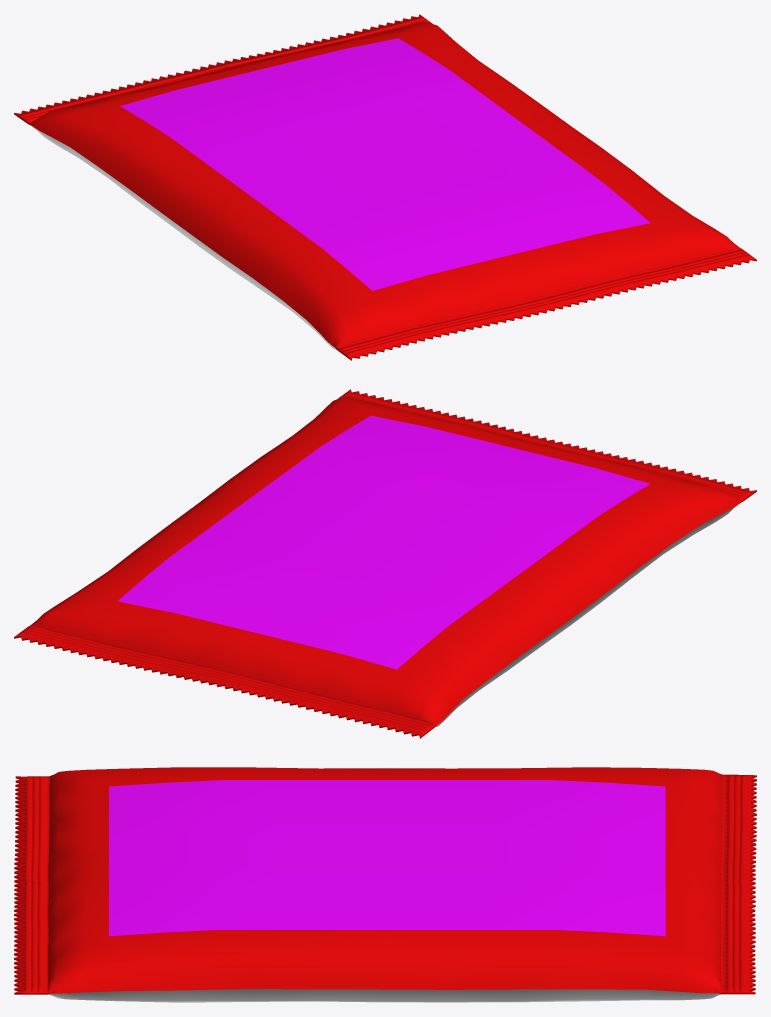
File: packshot_1.gltf
3 renders of one model, top to bottom at view 1: azimuth 30°, elevation 25°; view 2: azimuth 150°, elevation 25°; view 3: azimuth 270°, elevation 25°, orthographic. The views are drawn at different scales.
Visible parts, largest first — view 1: sticker, pack-pack, pack-backside; view 2: sticker, pack-pack, pack-backside; view 3: sticker, pack-pack, pack-backside.
Boxes of the visible parts, x1=… form: sticker: x1=120, y1=38, x2=650, y2=290; pack-pack: x1=14, y1=14, x2=756, y2=360; pack-backside: x1=31, y1=125, x2=336, y2=349; sticker: x1=117, y1=415, x2=650, y2=669; pack-pack: x1=14, y1=389, x2=756, y2=738; pack-backside: x1=435, y1=503, x2=739, y2=727; sticker: x1=109, y1=780, x2=665, y2=936; pack-pack: x1=14, y1=767, x2=756, y2=994; pack-backside: x1=49, y1=989, x2=720, y2=1002.
Size of the model in its own units: 51.05 by 7.19 by 73.4.
